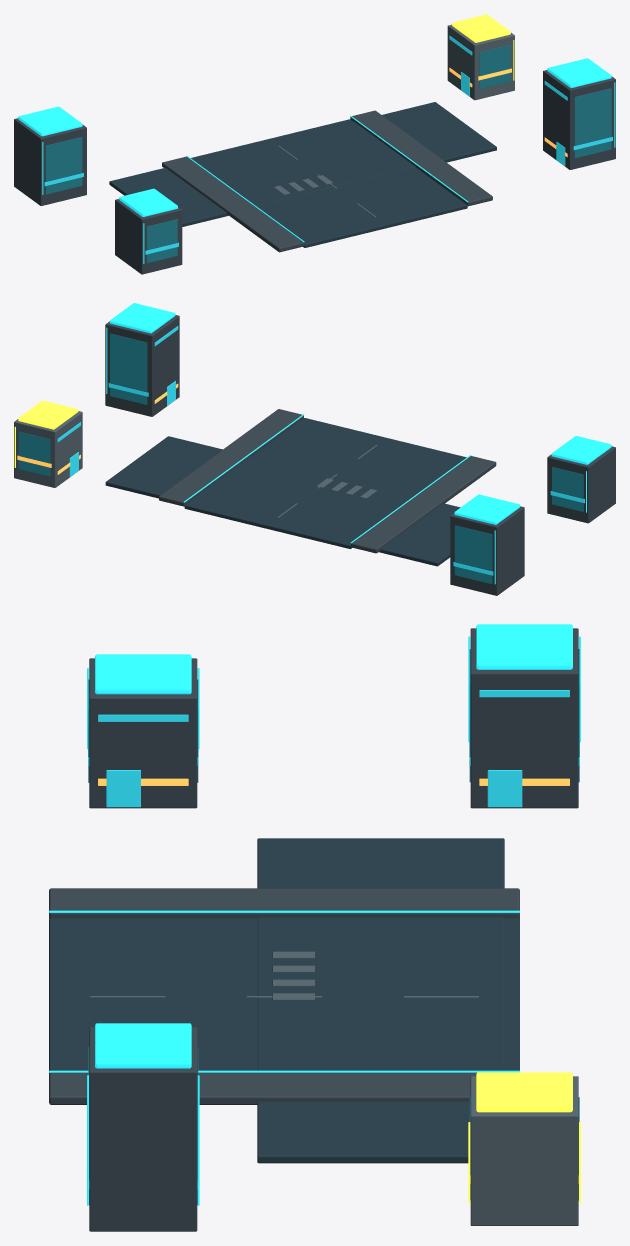
Rendered from t_junction_lod2.glb.
3 views of the same model, one above another, from view 1: azimuth 30°, elevation 25°; view 2: azimuth 150°, elevation 25°; view 3: azimuth 270°, elevation 25° (orthographic). The views are drawn at different scales.
Parts seen in each view (by area): view 1: ND_Batch_ND_WetAsphalt, ND_Batch_ND_CityConcrete, ND_Batch_ND_RoadEdge, ND_Batch_ND_DarkGlass, ND_Batch_ND_CityCyanMuted, ND_Batch_ND_CityConcreteLight, ND_Batch_ND_NeonGlass, ND_Batch_ND_PackageGold; view 2: ND_Batch_ND_WetAsphalt, ND_Batch_ND_CityConcrete, ND_Batch_ND_RoadEdge, ND_Batch_ND_DarkGlass, ND_Batch_ND_CityCyanMuted, ND_Batch_ND_CityConcreteLight, ND_Batch_ND_PackageGold, ND_Batch_ND_NeonGlass; view 3: ND_Batch_ND_WetAsphalt, ND_Batch_ND_CityConcrete, ND_Batch_ND_RoadEdge, ND_Batch_ND_CityCyanMuted, ND_Batch_ND_CityConcreteLight, ND_Batch_ND_PackageGold, ND_Batch_ND_NeonGlass, ND_Batch_ND_DarkGlass, ND_Batch_ND_WarmWindow.
Part boxes in pixels (x1,y1,x2,y2): ND_Batch_ND_WetAsphalt: (109, 102, 496, 247); ND_Batch_ND_CityConcrete: (14, 70, 615, 274); ND_Batch_ND_RoadEdge: (162, 110, 492, 252); ND_Batch_ND_DarkGlass: (45, 45, 611, 263); ND_Batch_ND_CityCyanMuted: (18, 58, 615, 263); ND_Batch_ND_CityConcreteLight: (274, 24, 514, 217); ND_Batch_ND_NeonGlass: (44, 35, 612, 254); ND_Batch_ND_PackageGold: (452, 14, 514, 80); ND_Batch_ND_WetAsphalt: (105, 418, 466, 566); ND_Batch_ND_CityConcrete: (105, 315, 615, 595); ND_Batch_ND_RoadEdge: (159, 409, 496, 553); ND_Batch_ND_DarkGlass: (18, 333, 583, 583); ND_Batch_ND_CityCyanMuted: (106, 303, 611, 584); ND_Batch_ND_CityConcreteLight: (14, 411, 377, 517); ND_Batch_ND_PackageGold: (14, 400, 78, 467); ND_Batch_ND_NeonGlass: (57, 326, 584, 575); ND_Batch_ND_WetAsphalt: (49, 838, 519, 1163); ND_Batch_ND_CityConcrete: (89, 628, 578, 1231); ND_Batch_ND_RoadEdge: (49, 888, 519, 1104); ND_Batch_ND_CityCyanMuted: (49, 624, 580, 1205); ND_Batch_ND_CityConcreteLight: (90, 951, 578, 1225); ND_Batch_ND_PackageGold: (468, 1072, 580, 1203); ND_Batch_ND_NeonGlass: (88, 690, 579, 1188); ND_Batch_ND_DarkGlass: (88, 649, 579, 1204); ND_Batch_ND_WarmWindow: (98, 778, 578, 1183).
Size of the model in its own units: 47.1 by 8.15 by 22.59.
